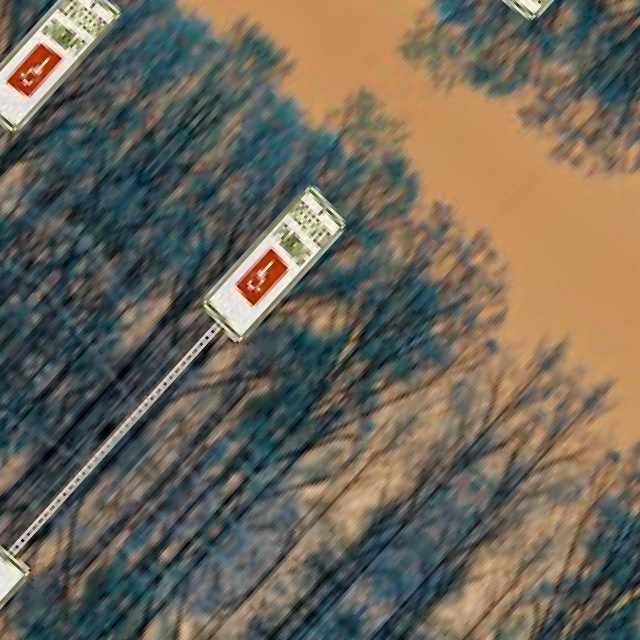ISA: (9, 42, 62, 96), (235, 248, 287, 302)
